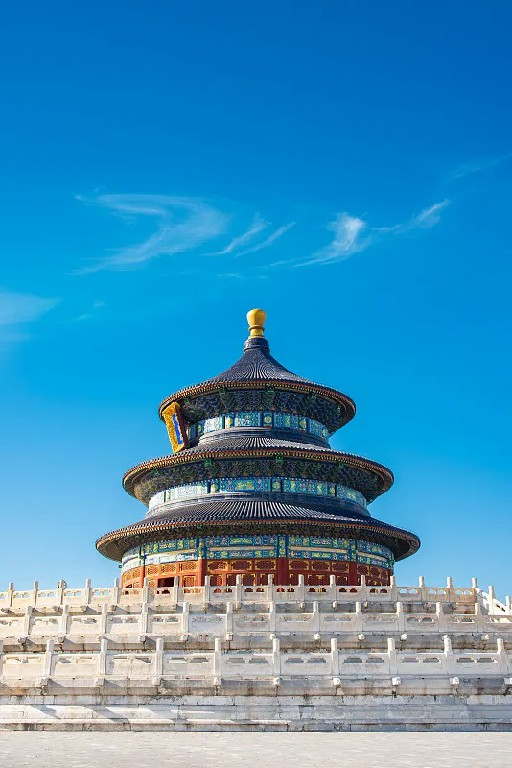Heaven: (96, 307, 421, 592)
